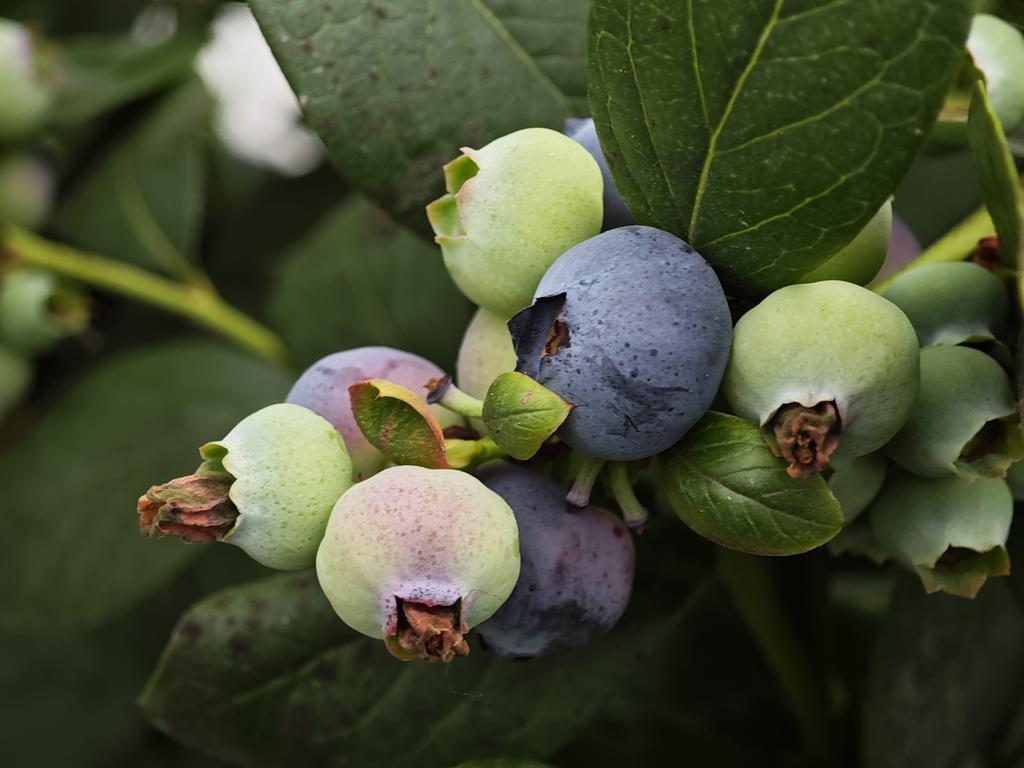RipeBlueBerry: (509, 222, 736, 466)
UnripeBlueBerry: (315, 459, 526, 664), (732, 275, 924, 473), (428, 123, 608, 312)
